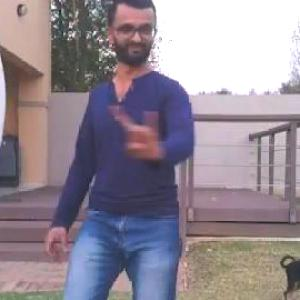takeoff-hand: (113, 104, 159, 166)
